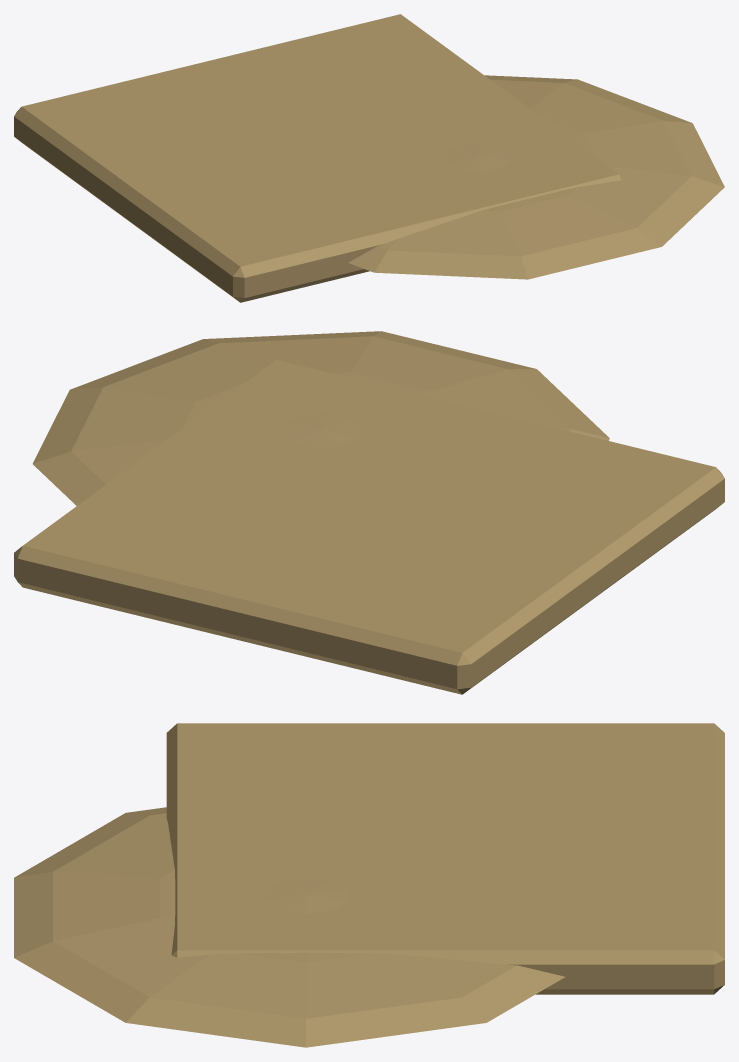
File: coast-beach-corner.lod0.glb
3 views of the same model, one above another, from view 1: azimuth 30°, elevation 25°; view 2: azimuth 150°, elevation 25°; view 3: azimuth 270°, elevation 25° (orthographic). The views are drawn at different scales.
Parts seen in each view (by area): view 1: coast-beach-corner__body; view 2: coast-beach-corner__body; view 3: coast-beach-corner__body.
Boxes of the visible parts, x1,y1,x2,y2 form: coast-beach-corner__body: (14, 14, 724, 302); coast-beach-corner__body: (14, 331, 724, 694); coast-beach-corner__body: (14, 723, 724, 1047).
Bounding box in the file's own units: 5.2 × 0.364 × 5.09.
